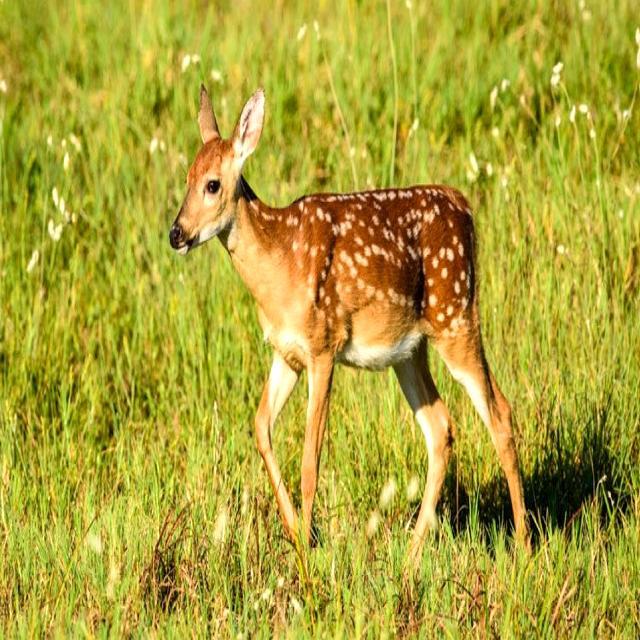deer: (152, 73, 301, 275)
